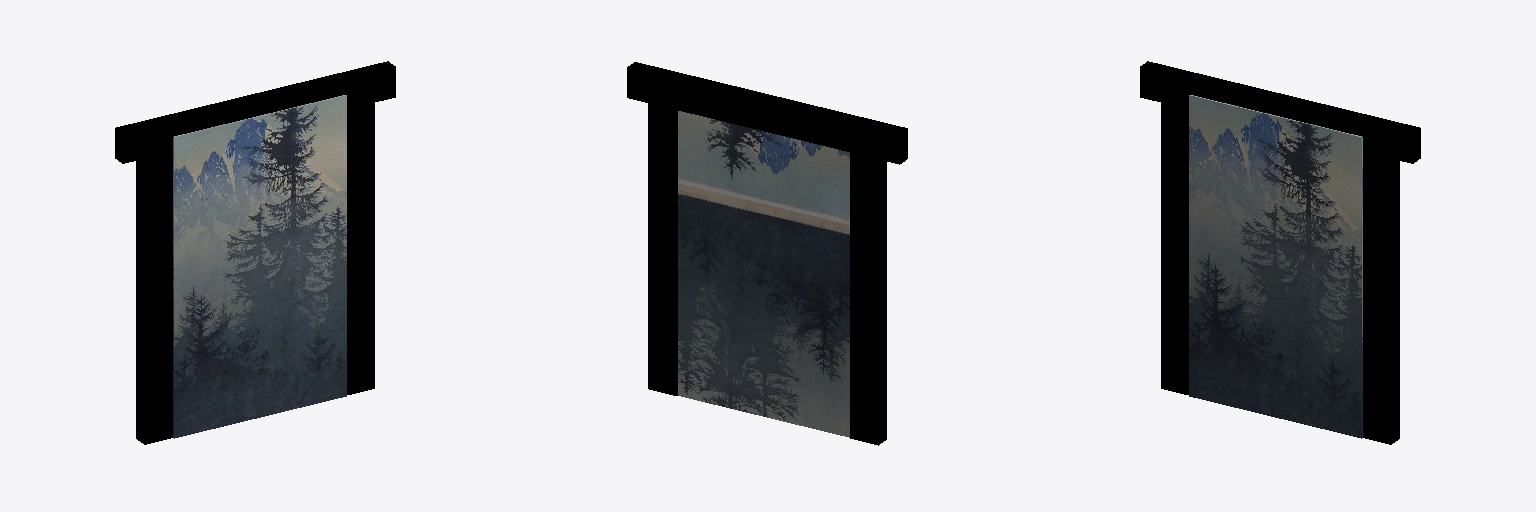
3 views of the same model, side by side, from view 1: azimuth 30°, elevation 25°; view 2: azimuth 150°, elevation 25°; view 3: azimuth 330°, elevation 25° (orthographic).
Visible parts, largest first — view 1: pCube7, pCube5, pCube6, pCube4; view 2: pCube7, pCube5, pCube4, pCube6; view 3: pCube7, pCube6, pCube4, pCube5.
Boxes of the visible parts, <box> form: pCube7: <box>173,95,346,438</box>; pCube5: <box>136,137,172,444</box>; pCube6: <box>347,103,374,394</box>; pCube4: <box>115,61,395,163</box>; pCube7: <box>678,111,849,437</box>; pCube5: <box>850,138,886,445</box>; pCube4: <box>627,62,907,164</box>; pCube6: <box>648,88,677,395</box>; pCube7: <box>1189,95,1362,438</box>; pCube6: <box>1363,138,1399,444</box>; pCube4: <box>1140,61,1420,163</box>; pCube5: <box>1161,103,1188,394</box>.
Size of the model in its own units: 19 by 21 by 1.1.
Materials: 2 (1 with a texture image).